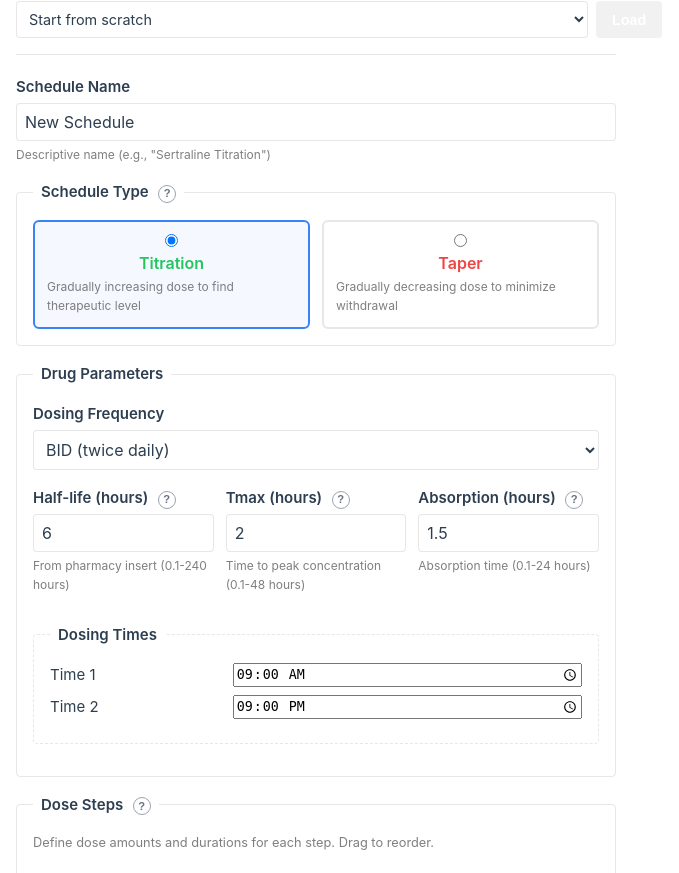
Test: ScheduleForm › validation display › shows validation errors for invalid form
Clear the field labelled "Schedule Name": (316, 122) 16,103 -> 616,141
(page scrolled)
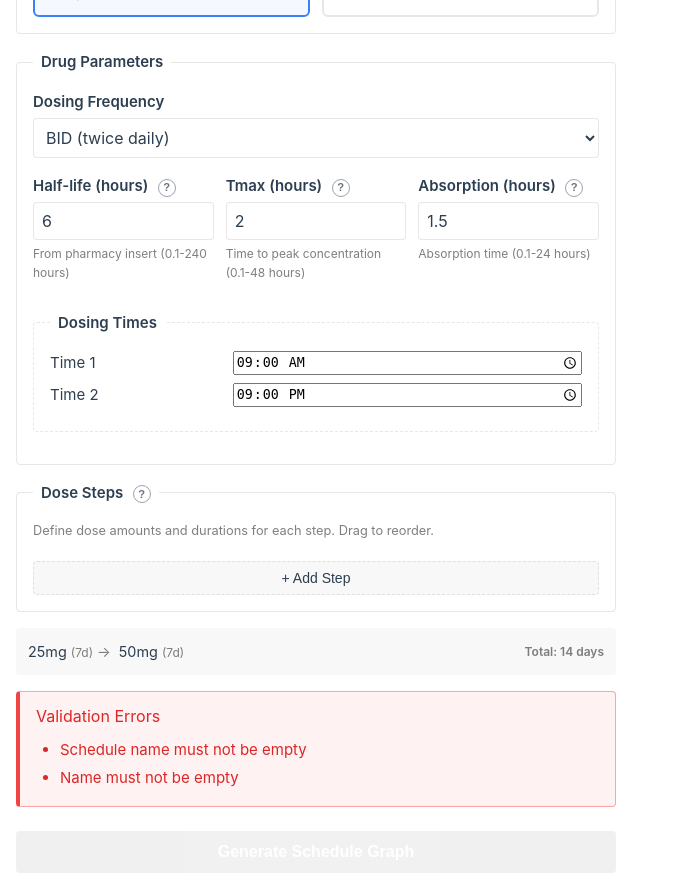
Result: the message "Validation Errors Schedule name must not be empty Name must not be empty" is shown at 16,691 -> 616,807
